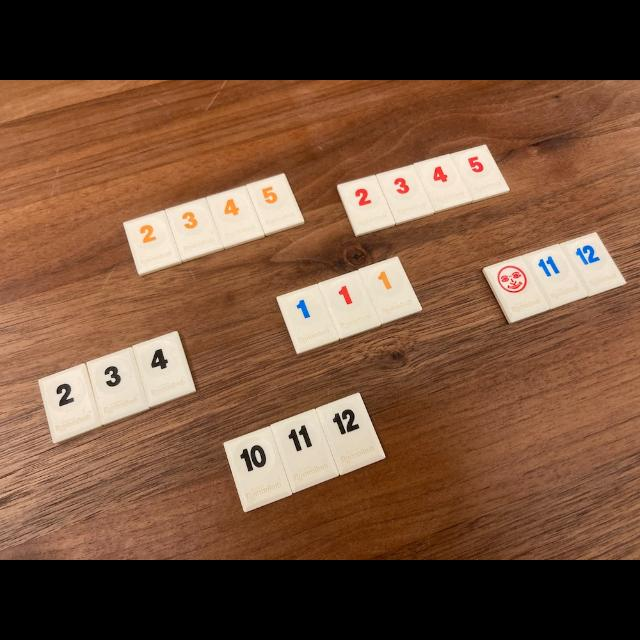black_10: (224, 426, 292, 512)
black_11: (270, 409, 339, 492)
black_12: (316, 392, 385, 474)
black_2: (39, 364, 101, 443)
black_3: (86, 348, 149, 424)
black_4: (132, 331, 195, 407)
blue_1: (276, 284, 339, 354)
blue_11: (522, 244, 586, 308)
blue_12: (560, 232, 626, 296)
joker: (482, 256, 550, 323)
orange_1: (359, 258, 421, 323)
orange_2: (124, 210, 181, 274)
orange_3: (165, 198, 224, 261)
orange_4: (206, 186, 264, 249)
orange_5: (246, 174, 304, 234)
red_1: (319, 271, 380, 338)
red_2: (338, 175, 395, 236)
red_3: (376, 165, 434, 223)
red_4: (414, 154, 471, 212)
red_5: (451, 145, 509, 202)
